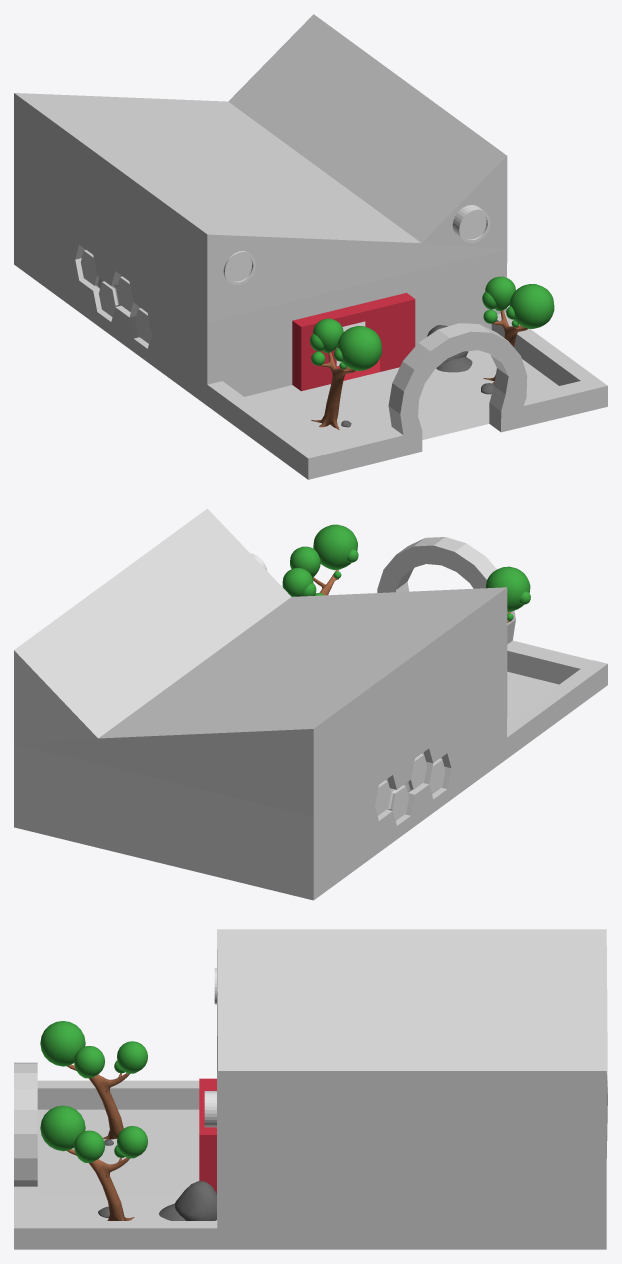
Rendered from Escenario-Centro Pokemon-Exterior.fbx.
3 views of the same model, one above another, from view 1: azimuth 30°, elevation 25°; view 2: azimuth 150°, elevation 25°; view 3: azimuth 270°, elevation 25° (orthographic).
Parts seen in each view (by area): view 1: Centro Pokemon.005; view 2: Centro Pokemon.005; view 3: Centro Pokemon.005.
Part boxes in pixels (x1,y1,x2,y2): Centro Pokemon.005: (14,14,607,479); Centro Pokemon.005: (14,508,607,900); Centro Pokemon.005: (14,929,607,1249).
Size of the model in its own units: 1920 by 1258 by 3272.
15 materials, 3 textured.
